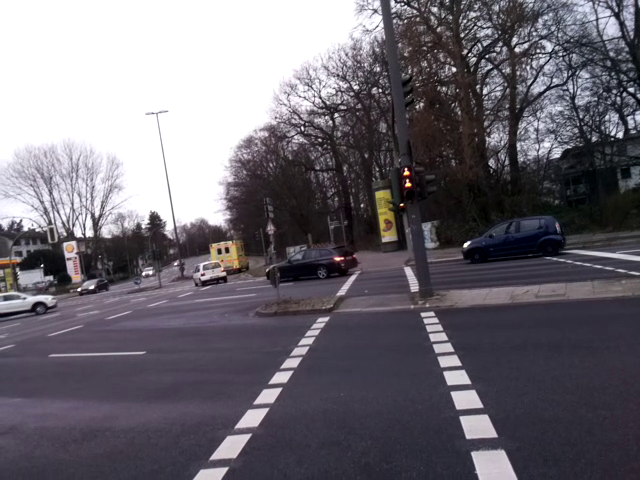car: (459, 212, 567, 261), (261, 246, 363, 280)
